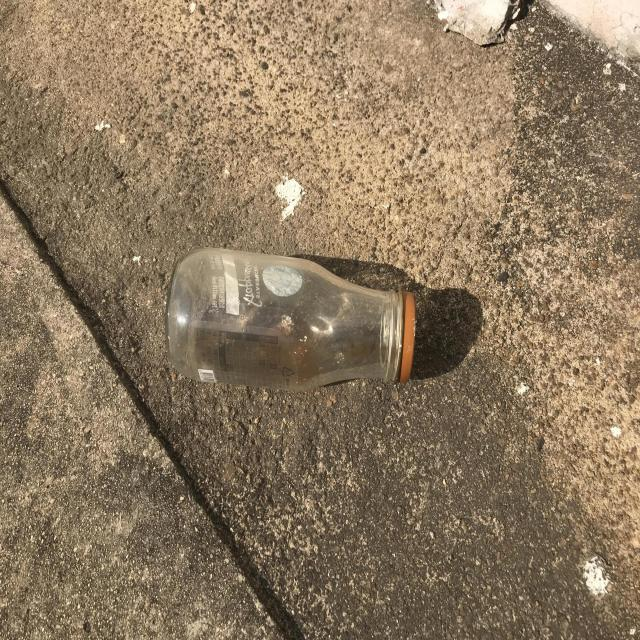glass: (165, 247, 415, 390)
